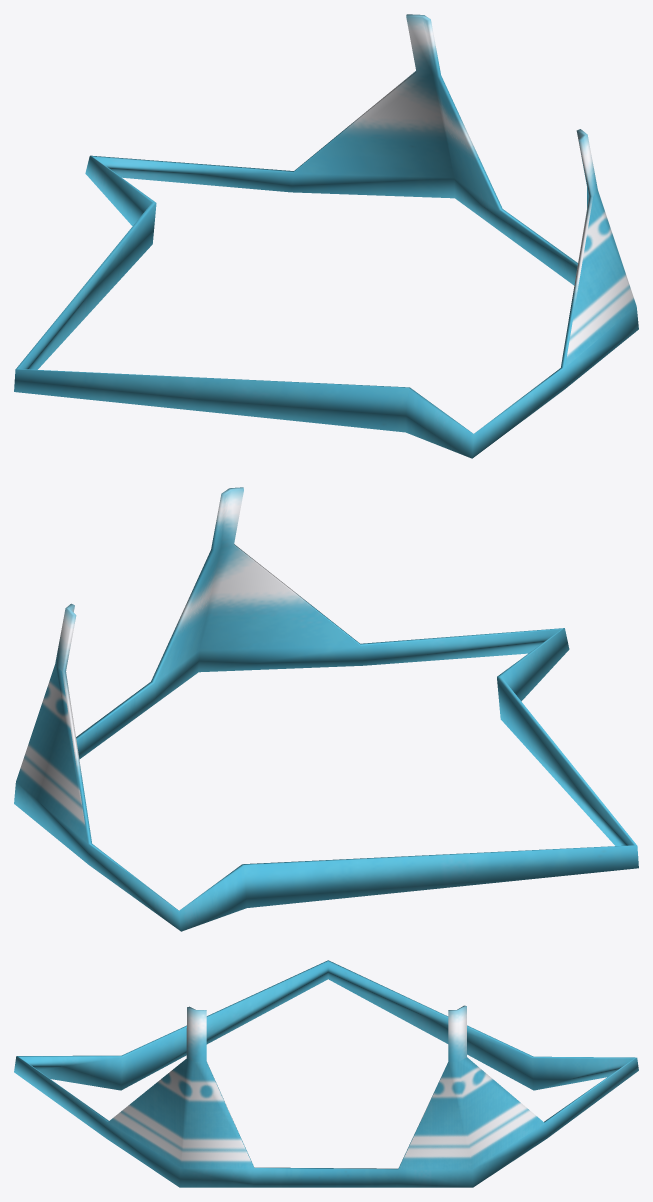
File: Nami.glb
3 views of the same model, one above another, from view 1: azimuth 30°, elevation 25°; view 2: azimuth 150°, elevation 25°; view 3: azimuth 270°, elevation 25° (orthographic). The views are drawn at different scales.
Parts seen in each view (by area): view 1: Nami; view 2: Nami; view 3: Nami.
Boxes of the visible parts, x1,y1,x2,y2 form: Nami: (14, 14, 638, 458); Nami: (14, 487, 638, 931); Nami: (14, 960, 638, 1187).
Size of the model in its own units: 1.34 by 0.5001 by 1.68.
Materials: 1 (1 with a texture image).
